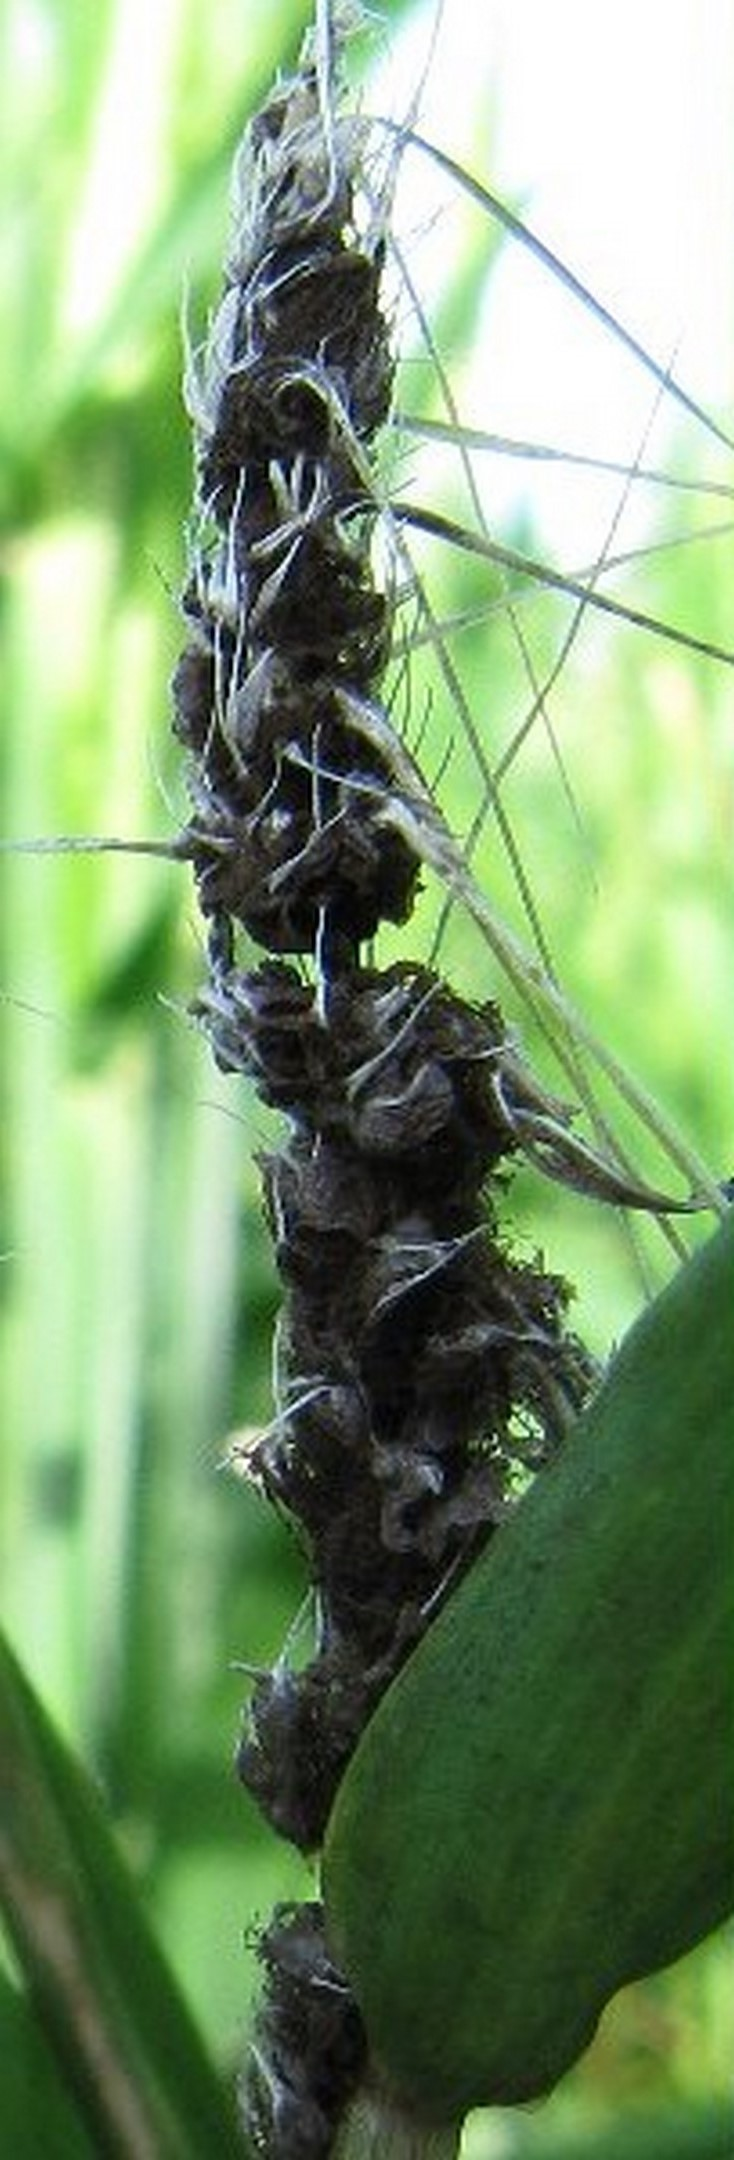Wheat Loose Smut: (110, 98, 600, 1676)
